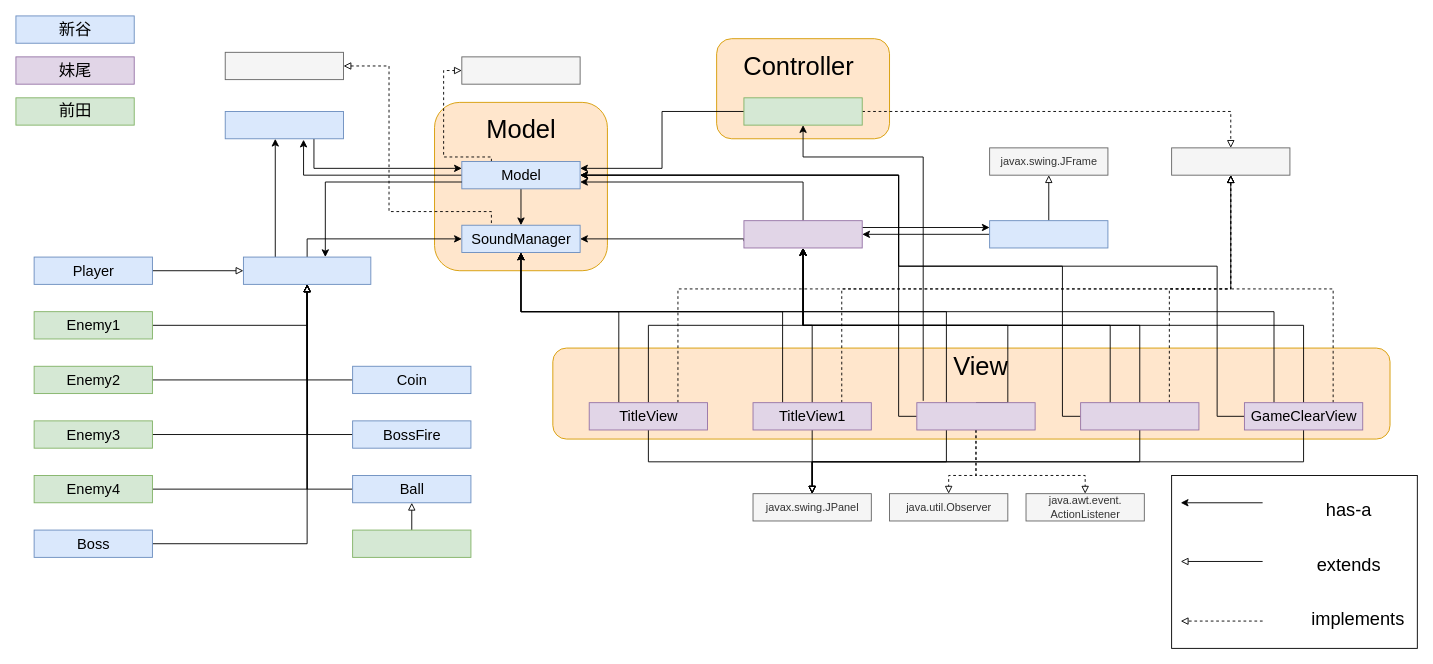
The diagram is 1433 pixels wide and 664 high, and some of its shapes have lost their labels. Each missing label, with the centre of its shape:
"CharaController" belongs at (802,111).
"Character" belongs at (307,270).
"EnemyBall" belongs at (411,543).
"Field" belongs at (284,125).
"GameOverView" belongs at (1139,416).
"GameView" belongs at (975,416).
"java.awt.event. KeyListener" belongs at (1230,161).
"java.util.Observable" belongs at (520,70).
"javax.sound.sampled. LineListener" belongs at (284,65).
"MainFrame" belongs at (1048,234).
"SceneManager" belongs at (802,234).
